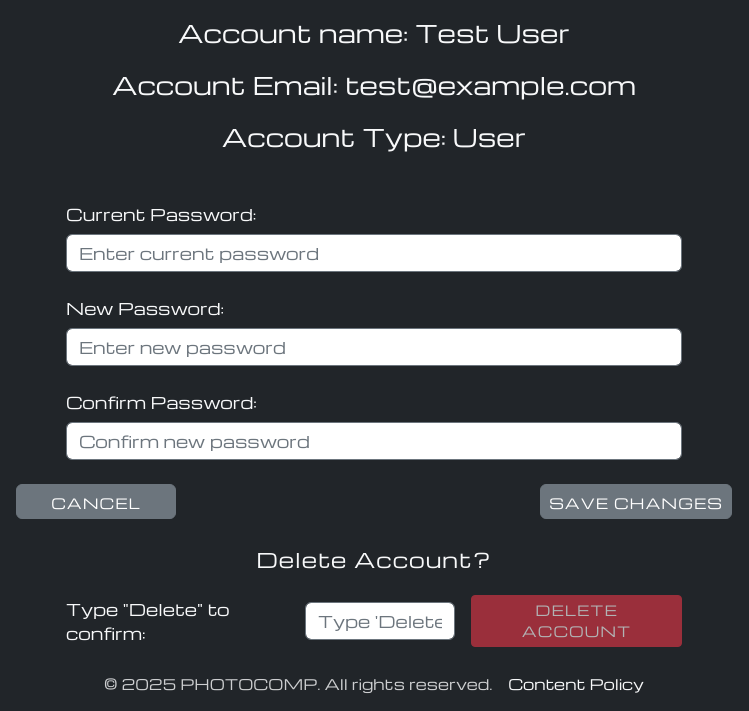
Test: Account Settings Page › Account Deletion › handles error when deleting account
(page scrolled)
Note: Type correct confirmation
Type "Delete" into the field with id "deleteConfirmation" at coordinates (380, 621), box [305,602,455,640]
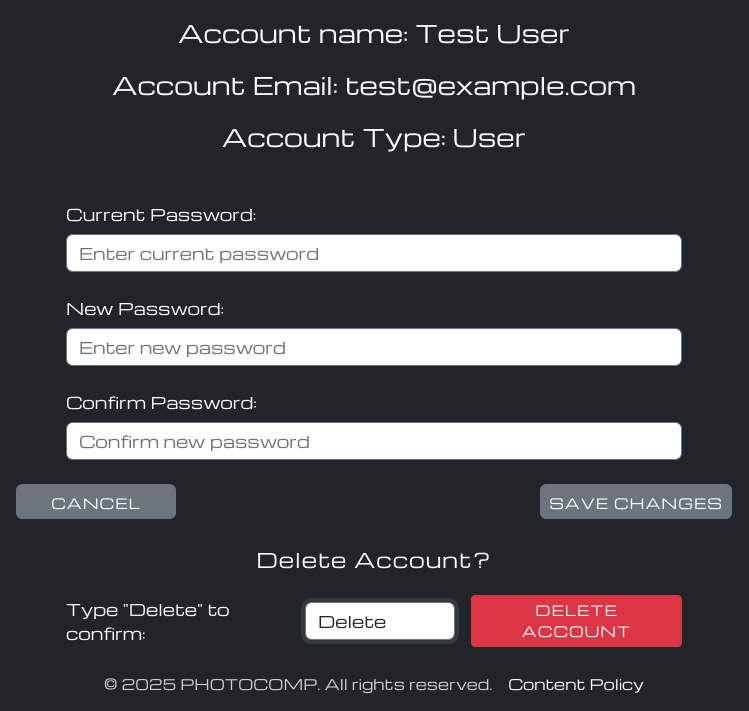
Note: Click delete button
Click the button "Delete Account" at coordinates (577, 621), box [471,595,682,647]
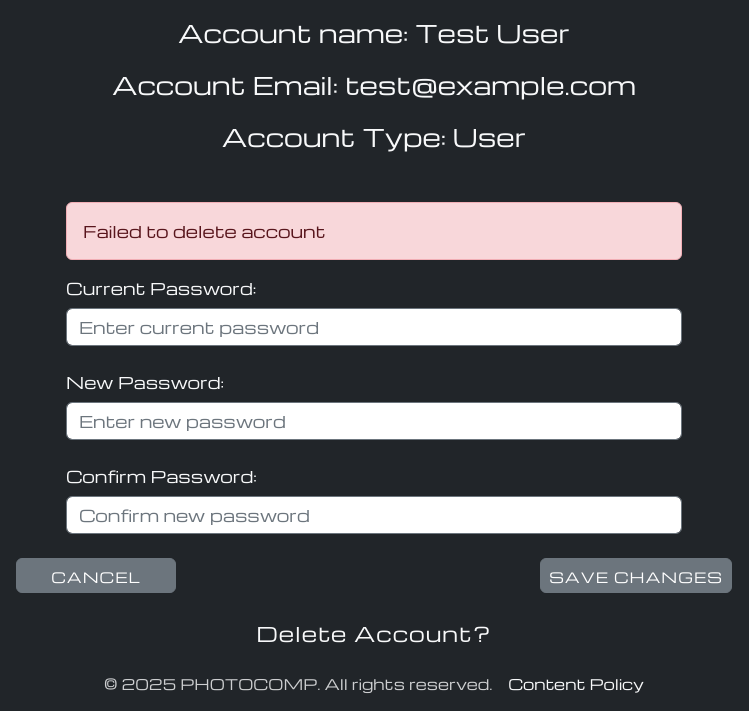
Expected: the text "Failed to delete account" is shown, [66,202,682,260]
